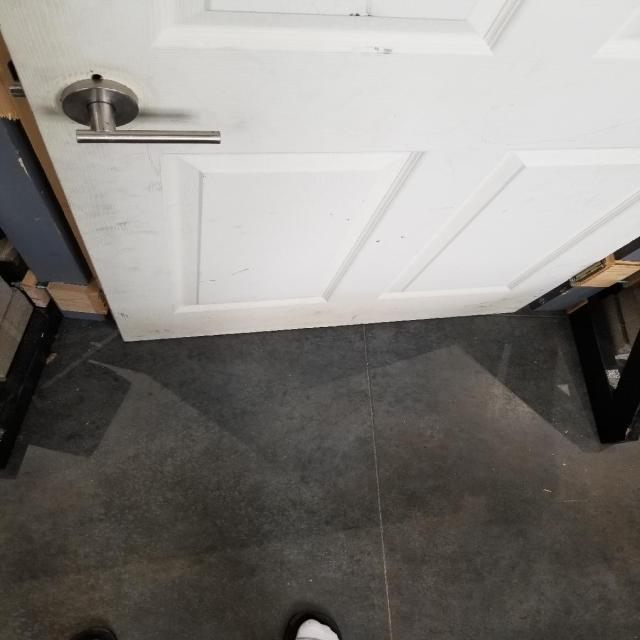door: (56, 73, 226, 153)
